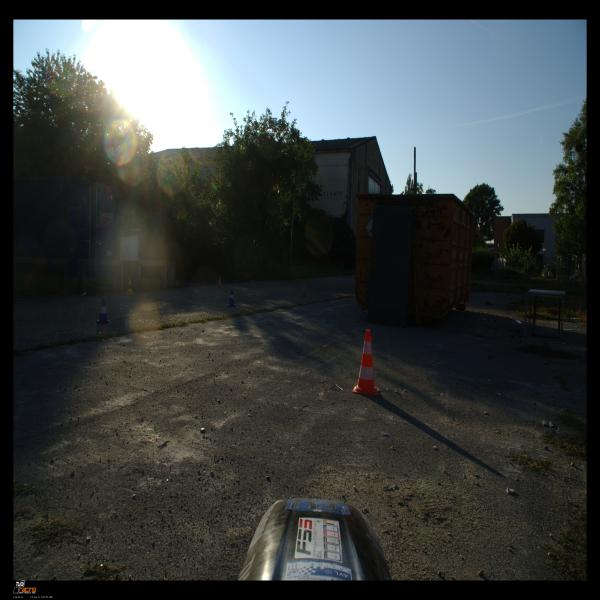blue_cone: (95, 299, 112, 324), (226, 290, 237, 306)
large_orange_cone: (352, 330, 379, 396)
orange_cone: (301, 283, 308, 297), (216, 276, 223, 289)
yellow_cone: (126, 280, 134, 295)
